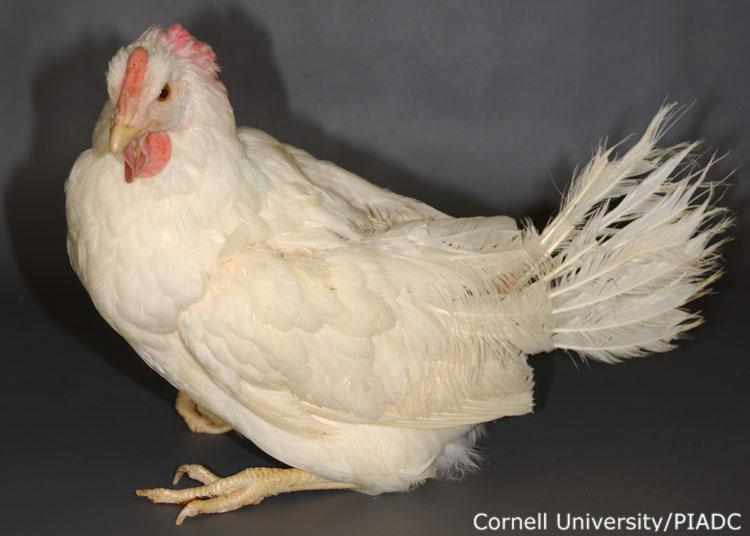AbNormal: (61, 24, 735, 528)
